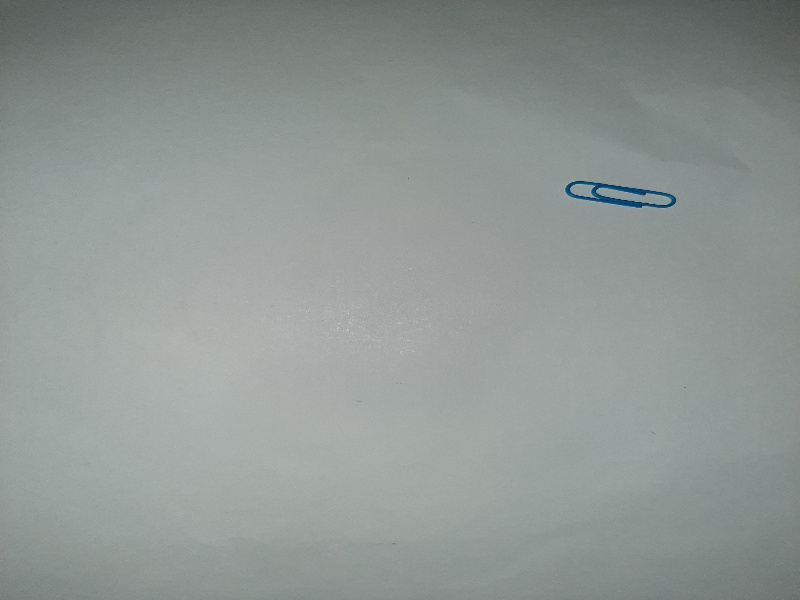Small Jumpclip: (559, 173, 685, 216)
